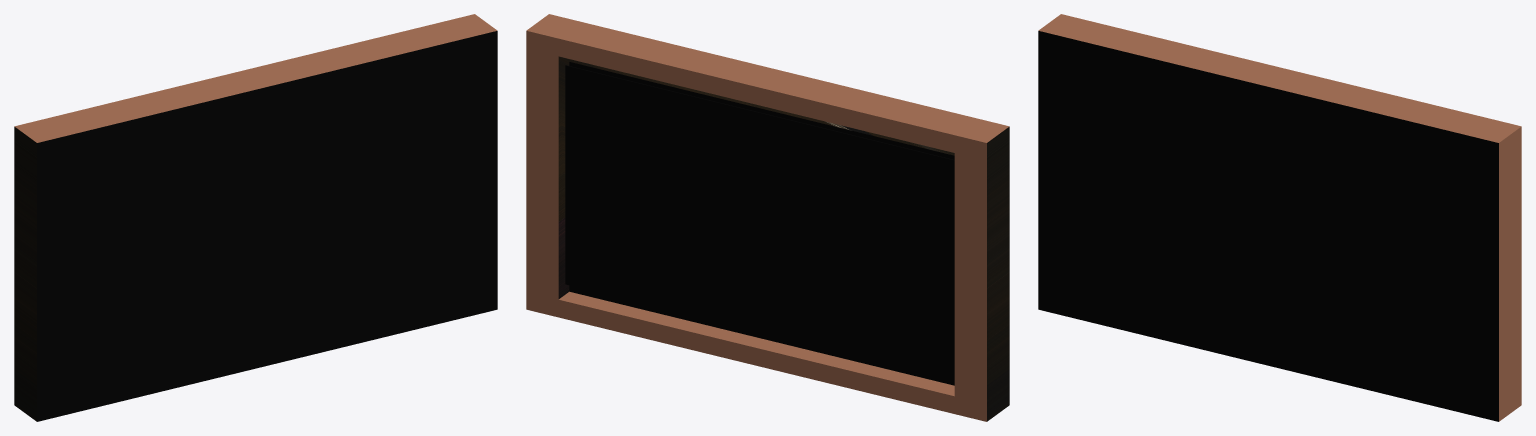
File: bedroompicture_black.glb
3 views of the same model, side by side, from view 1: azimuth 30°, elevation 25°; view 2: azimuth 150°, elevation 25°; view 3: azimuth 330°, elevation 25° (orthographic).
Visible parts, largest first — view 1: portrait anim; view 2: portrait anim; view 3: portrait anim.
Boxes of the visible parts, left/top/right/bottom form: portrait anim: left=14, top=14, right=497, bottom=421; portrait anim: left=526, top=14, right=1009, bottom=421; portrait anim: left=1038, top=14, right=1521, bottom=421.
Bounding box in the file's own units: 5.54 × 3.2 × 0.4754.
3 materials, 1 textured.
